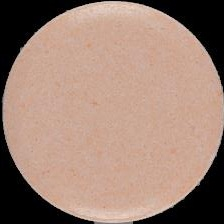50090-2171: (0, 0, 224, 224)
